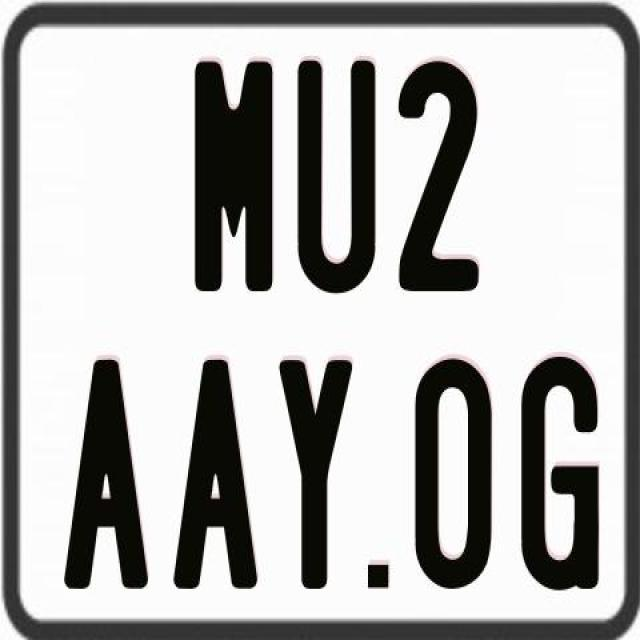0: (414, 358, 494, 594)
2: (398, 56, 482, 296)
A: (174, 356, 264, 594), (62, 357, 150, 587)
G: (517, 353, 596, 592)
M: (190, 59, 274, 296)
U: (296, 56, 378, 296)
Y: (280, 360, 360, 598)
